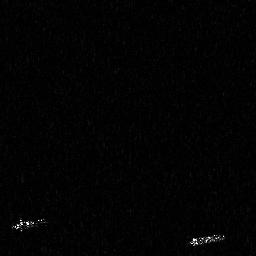ship: (186, 231, 228, 249), (10, 217, 50, 233)
